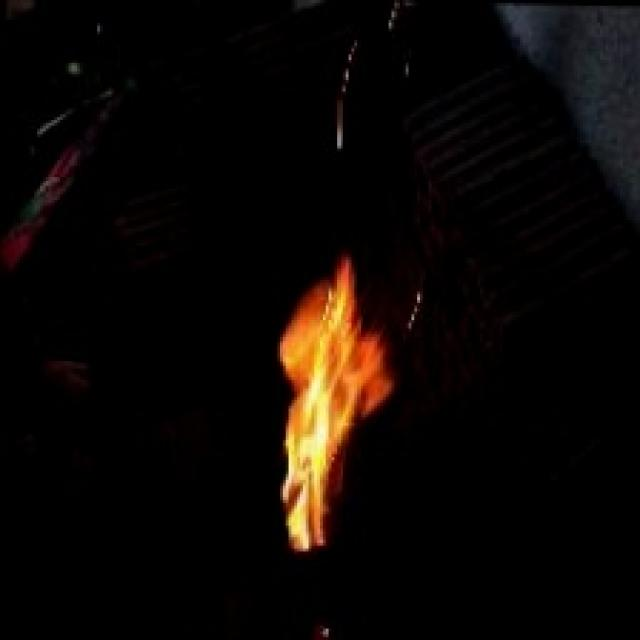fire: (246, 243, 411, 568)
